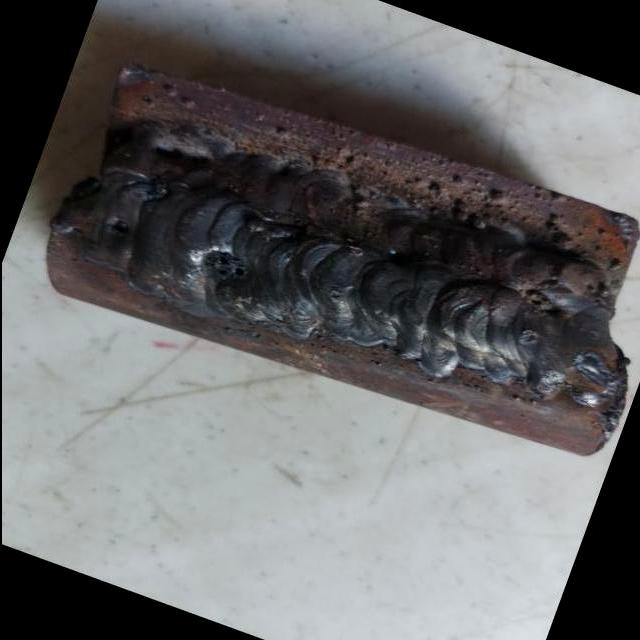defect: (194, 245, 252, 289), (520, 289, 561, 316), (138, 176, 174, 202), (104, 215, 137, 240), (515, 326, 538, 346), (322, 282, 342, 301)
